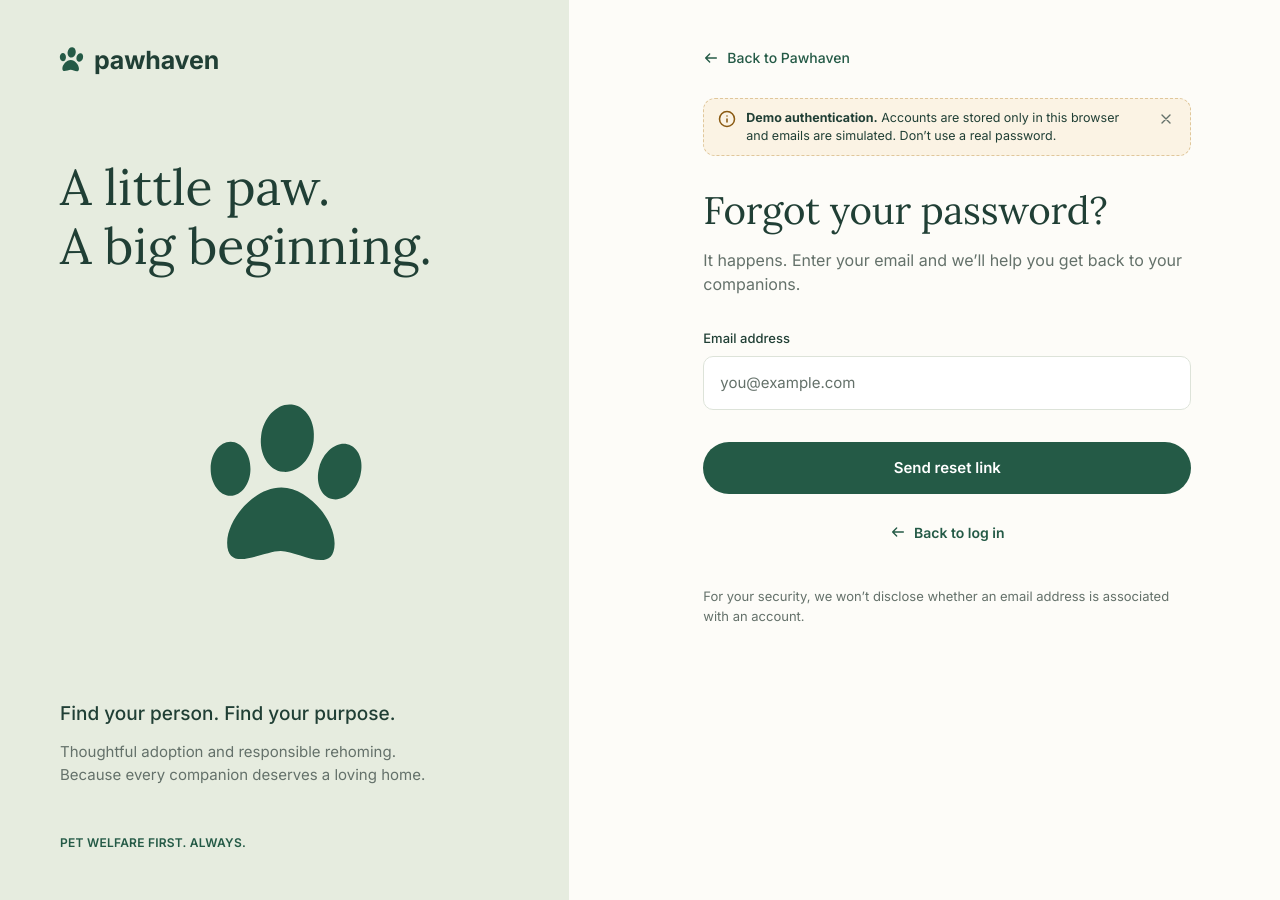
it: Forgot password › always shows the neutral confirmation
In the field labelled "Email address": (947,383) x1=704 y1=357 x2=1190 y2=409, type "ghost@example.com"
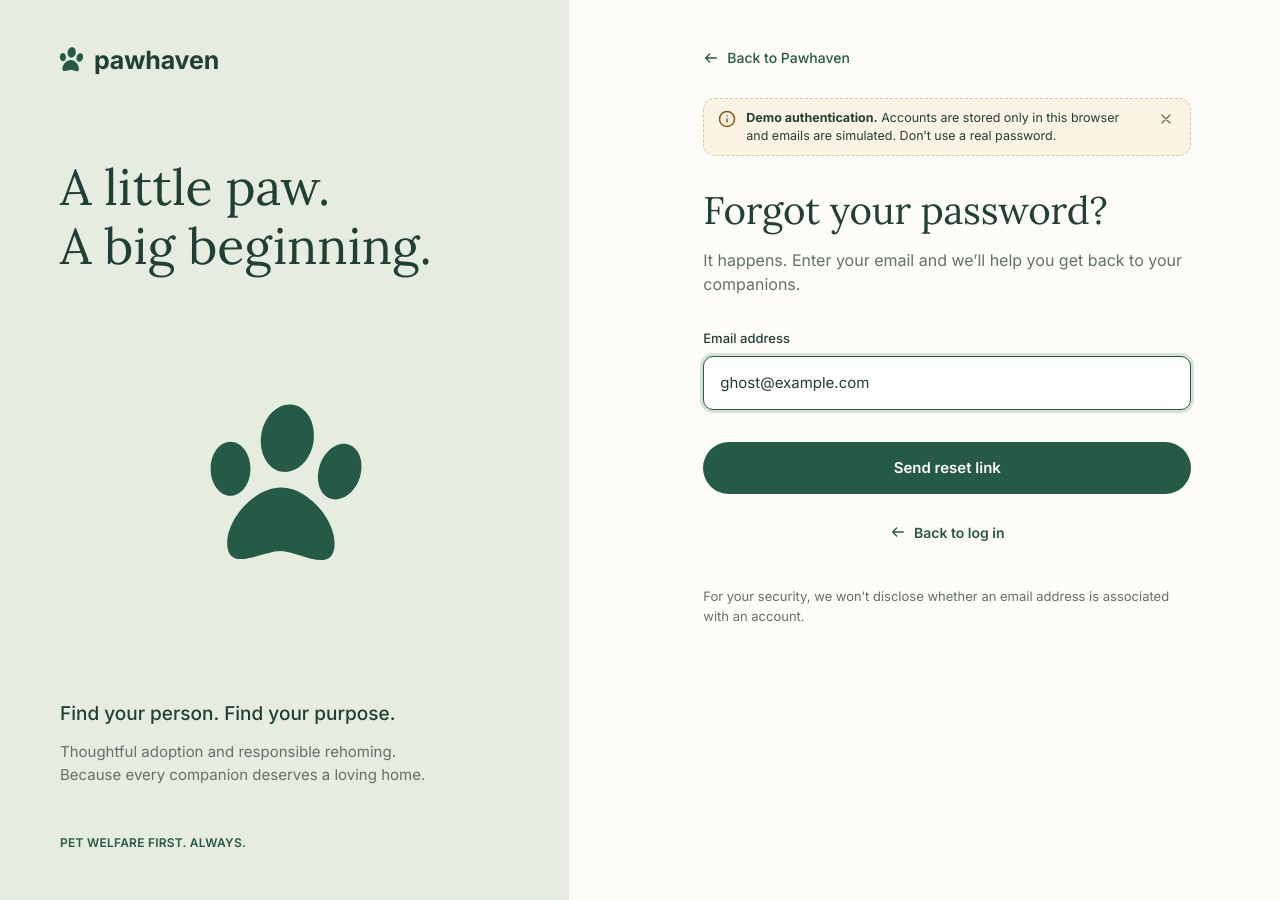
Click the button "Send reset link": (947,468) x1=703 y1=442 x2=1191 y2=494
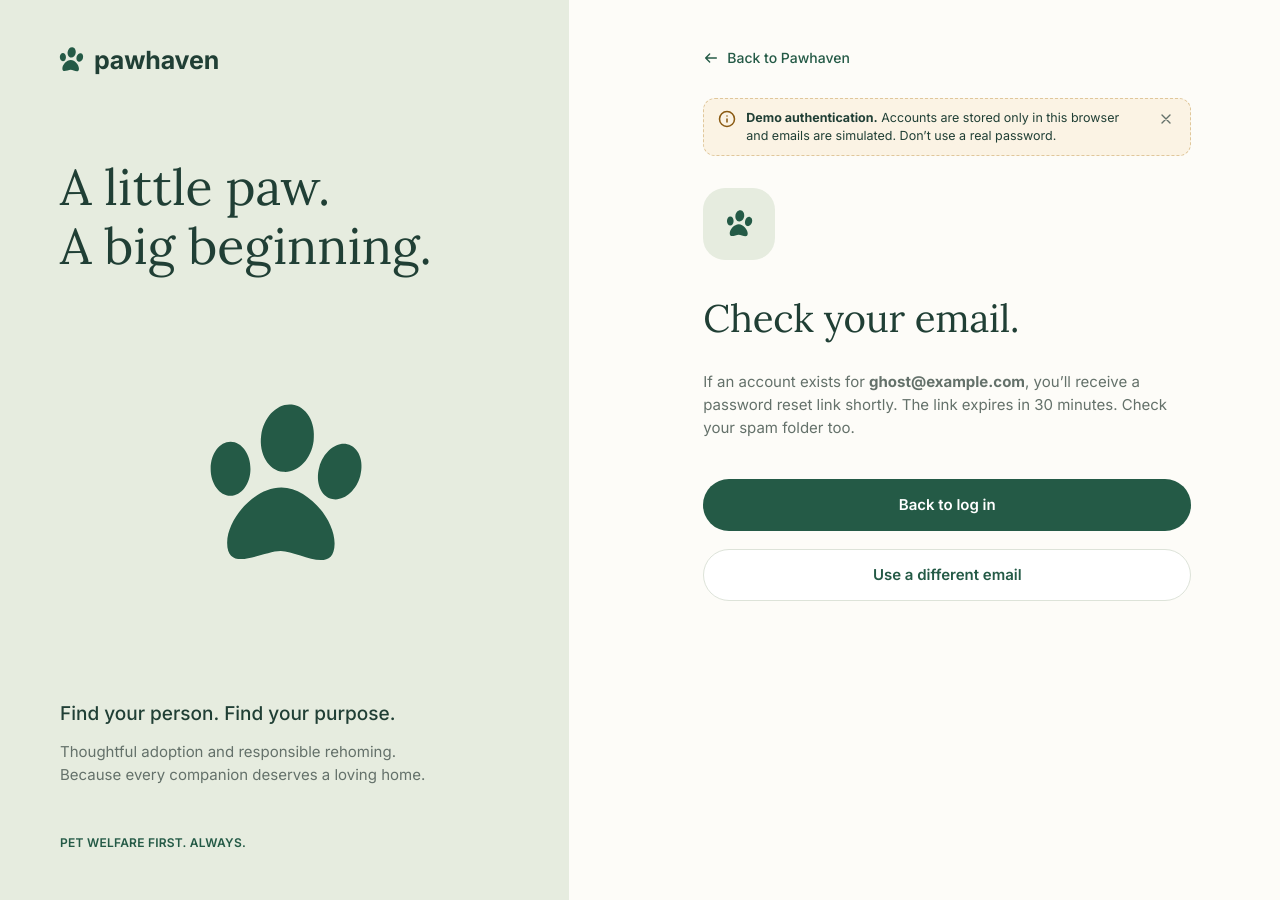
expect the heading "Check your email." is shown: met, box x1=703 y1=293 x2=1019 y2=343
expect the text "If an account exists for" is shown: met, box x1=703 y1=372 x2=869 y2=391
